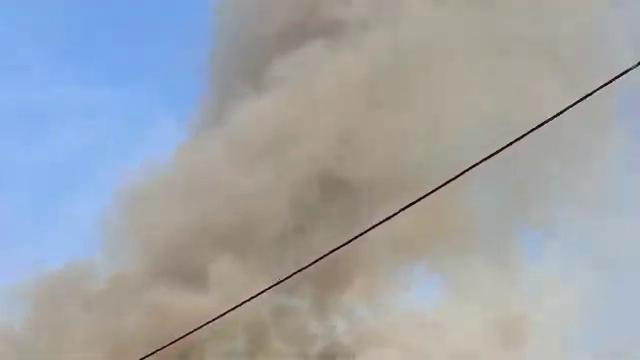smoke: (208, 35, 416, 250)
